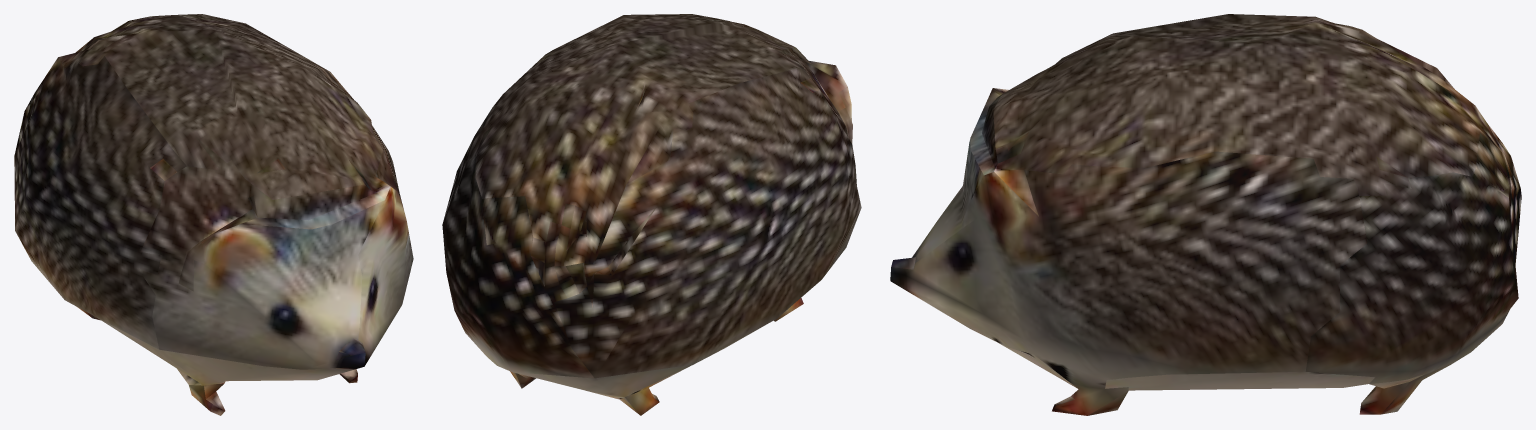
File: Hedgehog.glb
3 renders of one model, left to right at view 1: azimuth 30°, elevation 25°; view 2: azimuth 150°, elevation 25°; view 3: azimuth 270°, elevation 25°, orthographic. The views are drawn at different scales.
Parts seen in each view (by area): view 1: Obj3d66-19400386-2-159; view 2: Obj3d66-19400386-2-159; view 3: Obj3d66-19400386-2-159.
Part boxes in pixels (left/top/right/bottom): Obj3d66-19400386-2-159: left=14, top=14, right=413, bottom=415; Obj3d66-19400386-2-159: left=442, top=14, right=861, bottom=415; Obj3d66-19400386-2-159: left=890, top=14, right=1521, bottom=415.
Size of the model in its own units: 1.01 by 0.9921 by 1.64.
Materials: 1 (1 with a texture image).
